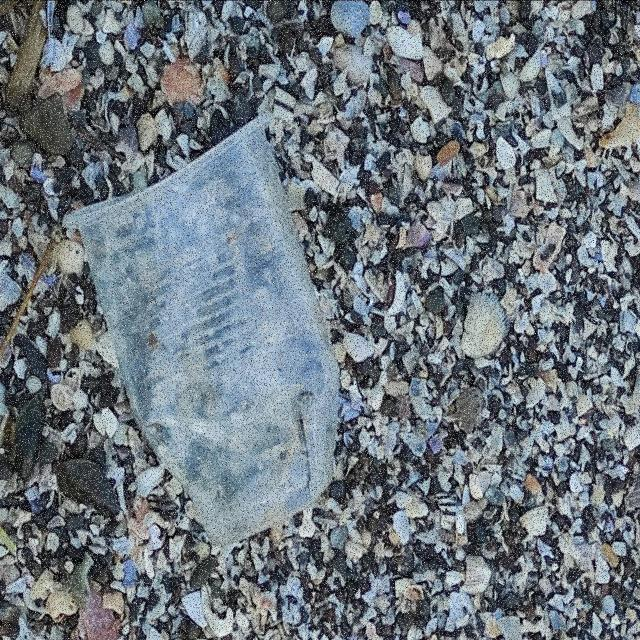plastic_waste: (61, 109, 342, 536)
